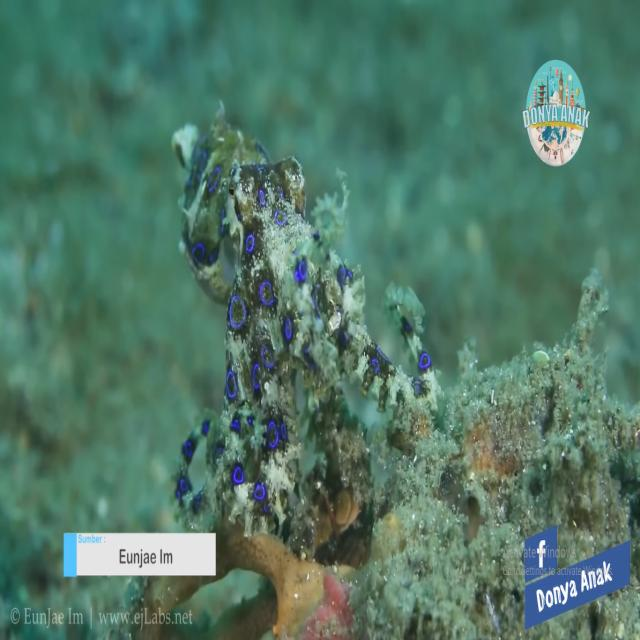blue_ringed_octopus: (167, 99, 445, 540)
